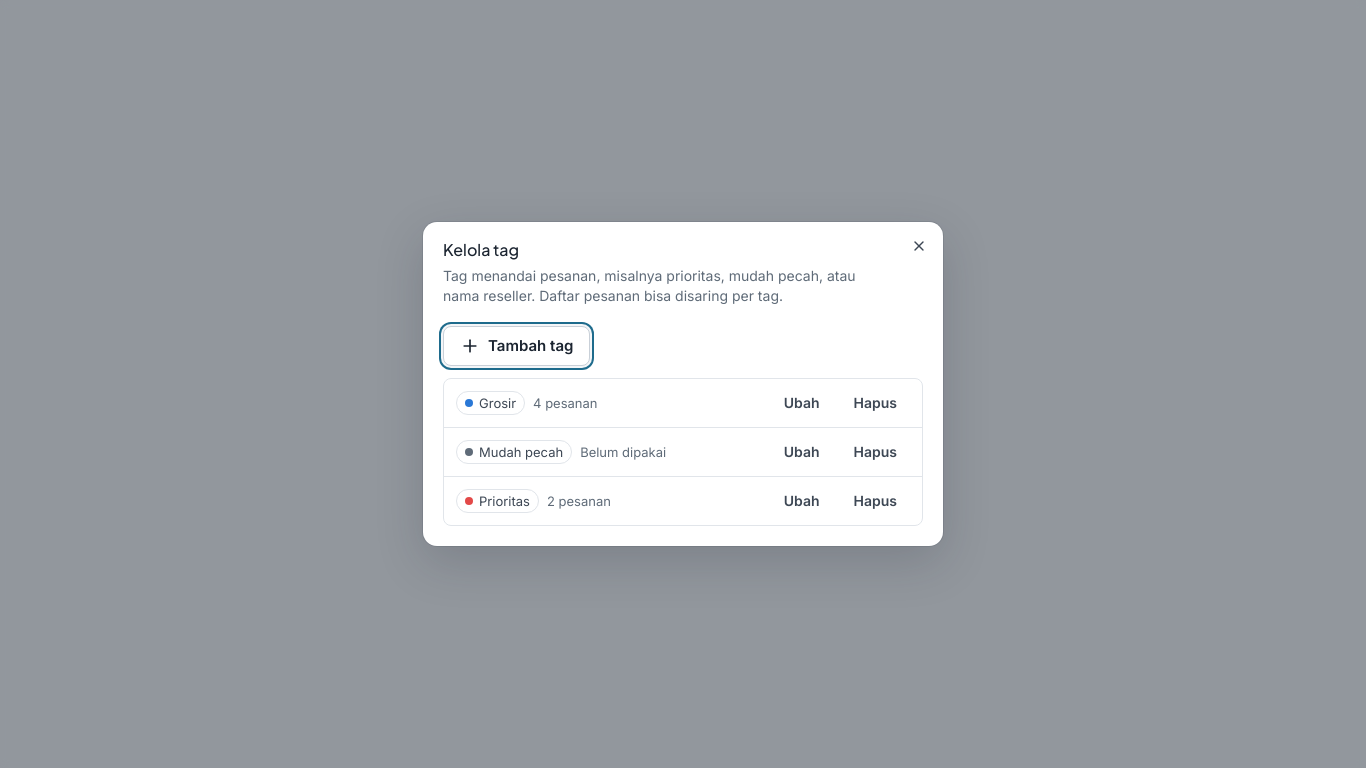
Test: Kelola tag › makes a new tag with a chosen color, refusing a name already used
This screenshot has width=1366, height=768.
Check: the text "Prioritas" is shown, box 479,492 -> 530,510
Click the button "Tambah tag": {"x": 517, "y": 346} 443,326 -> 590,366
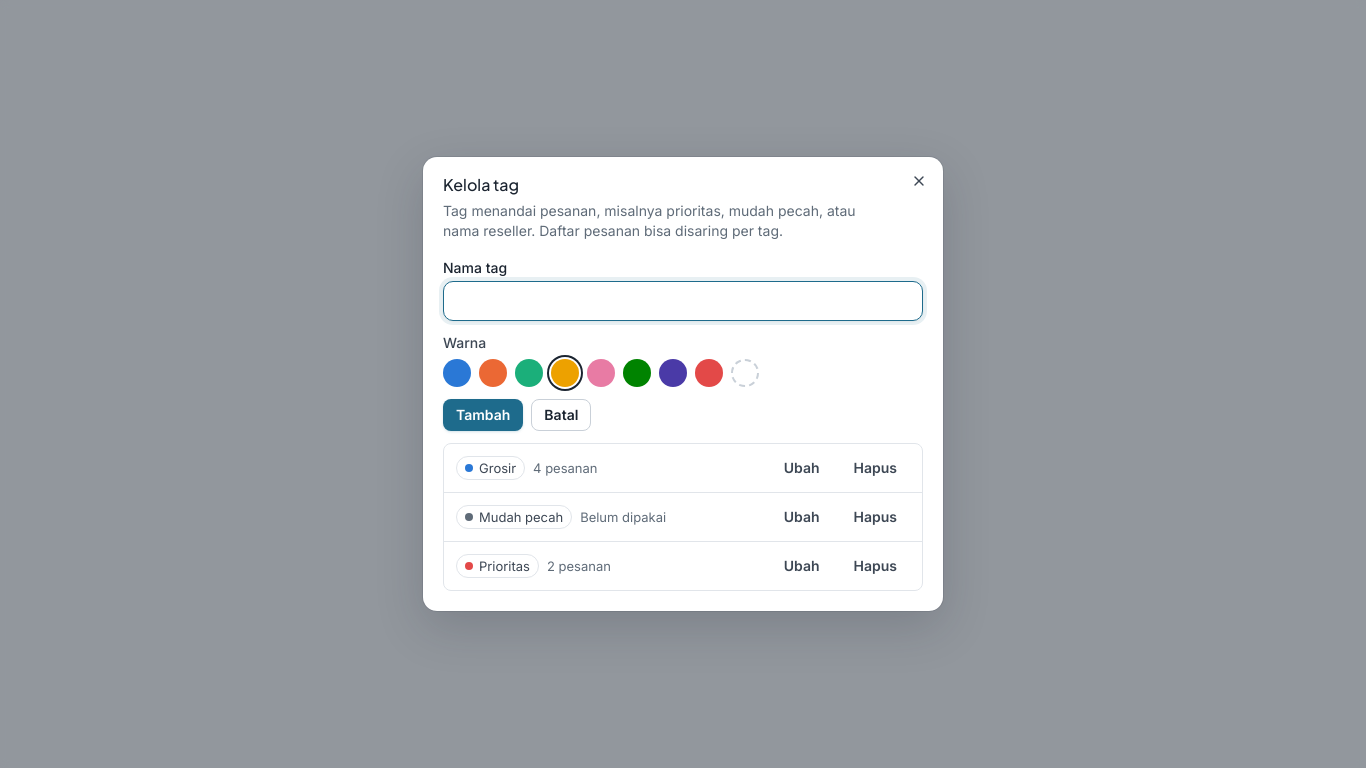
In the field labelled "Nama tag": {"x": 683, "y": 301} 443,281 -> 923,321, type "grosir"
Click the button "Tambah": {"x": 483, "y": 415} 443,399 -> 523,431
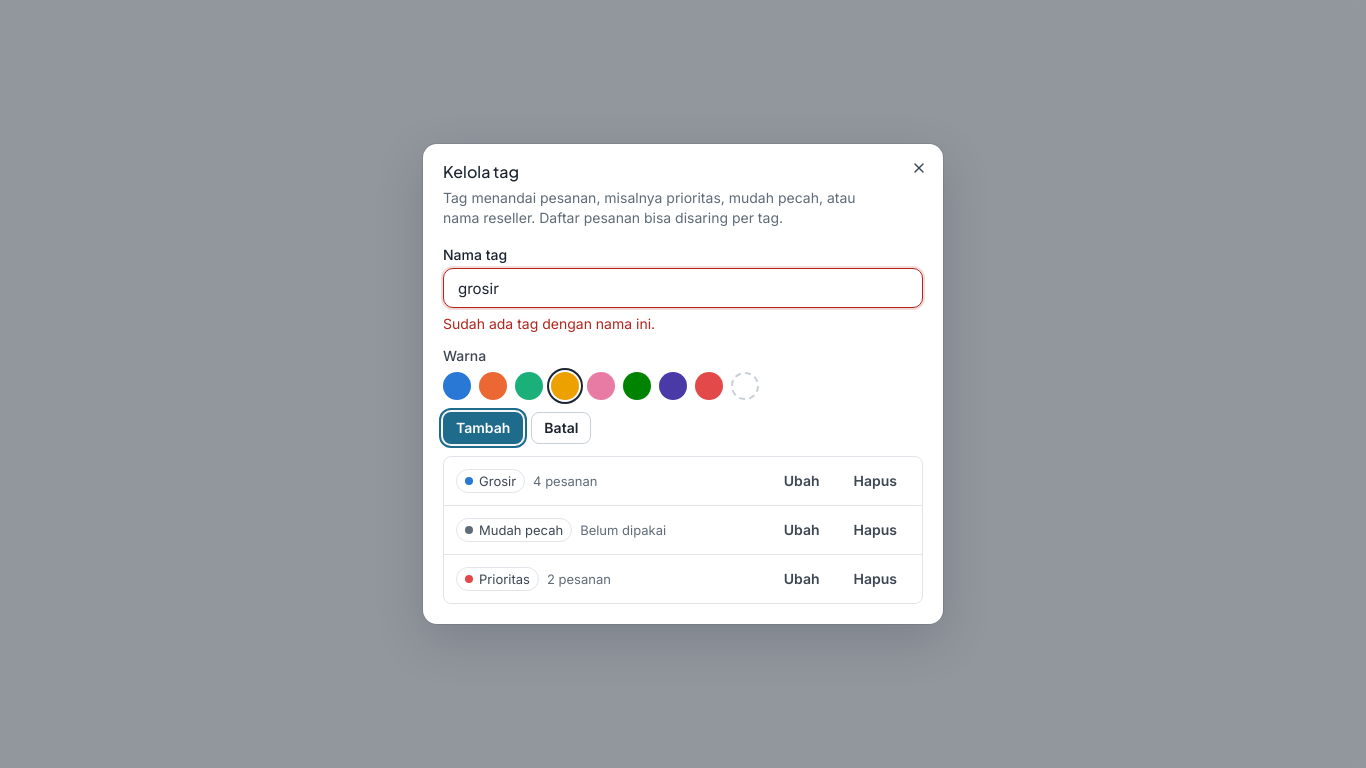
Check: the text "Sudah ada tag dengan nama ini." is shown, box 443,315 -> 655,332
Clear the field labelled "Nama tag": {"x": 683, "y": 288} 443,268 -> 923,308
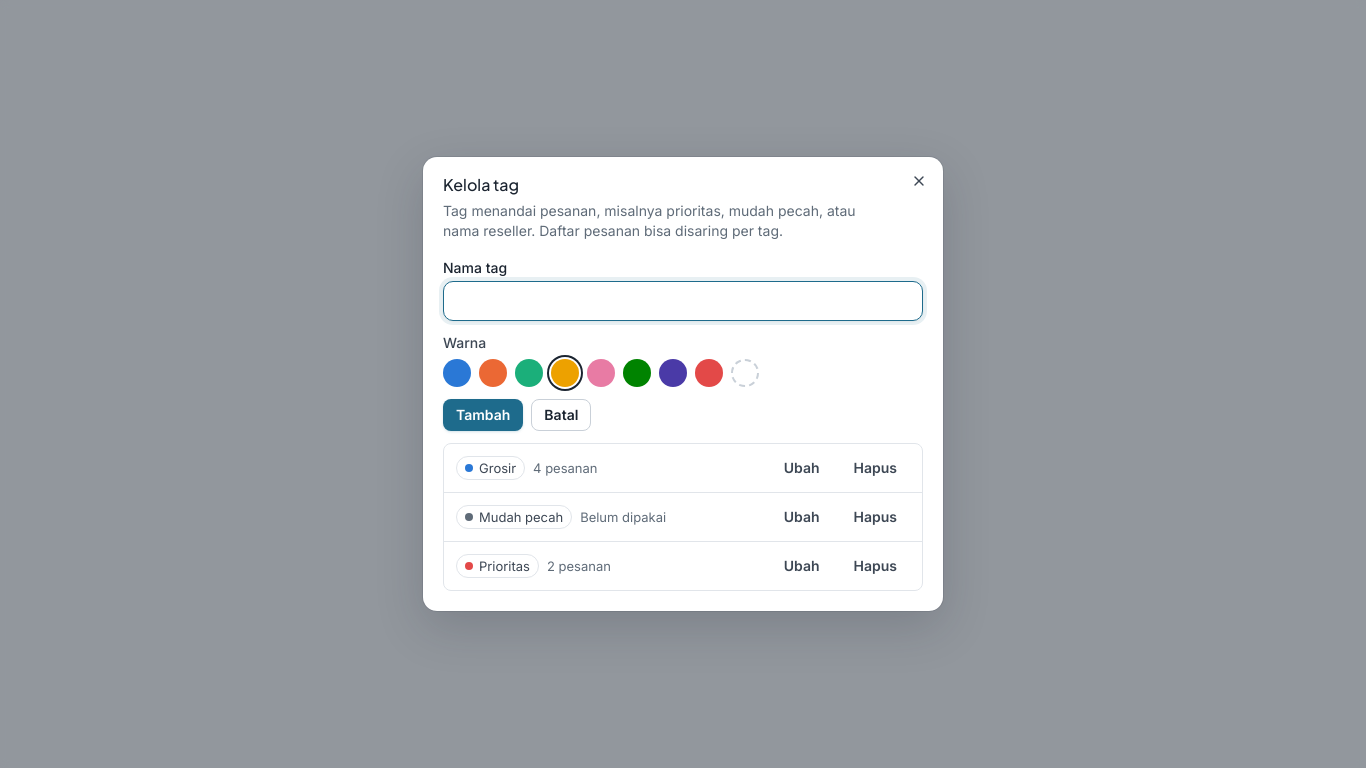
Check: the text "Sudah ada tag dengan nama ini." is gone
In the field labelled "Nama tag": {"x": 683, "y": 301} 443,281 -> 923,321, type "Grosir besar"
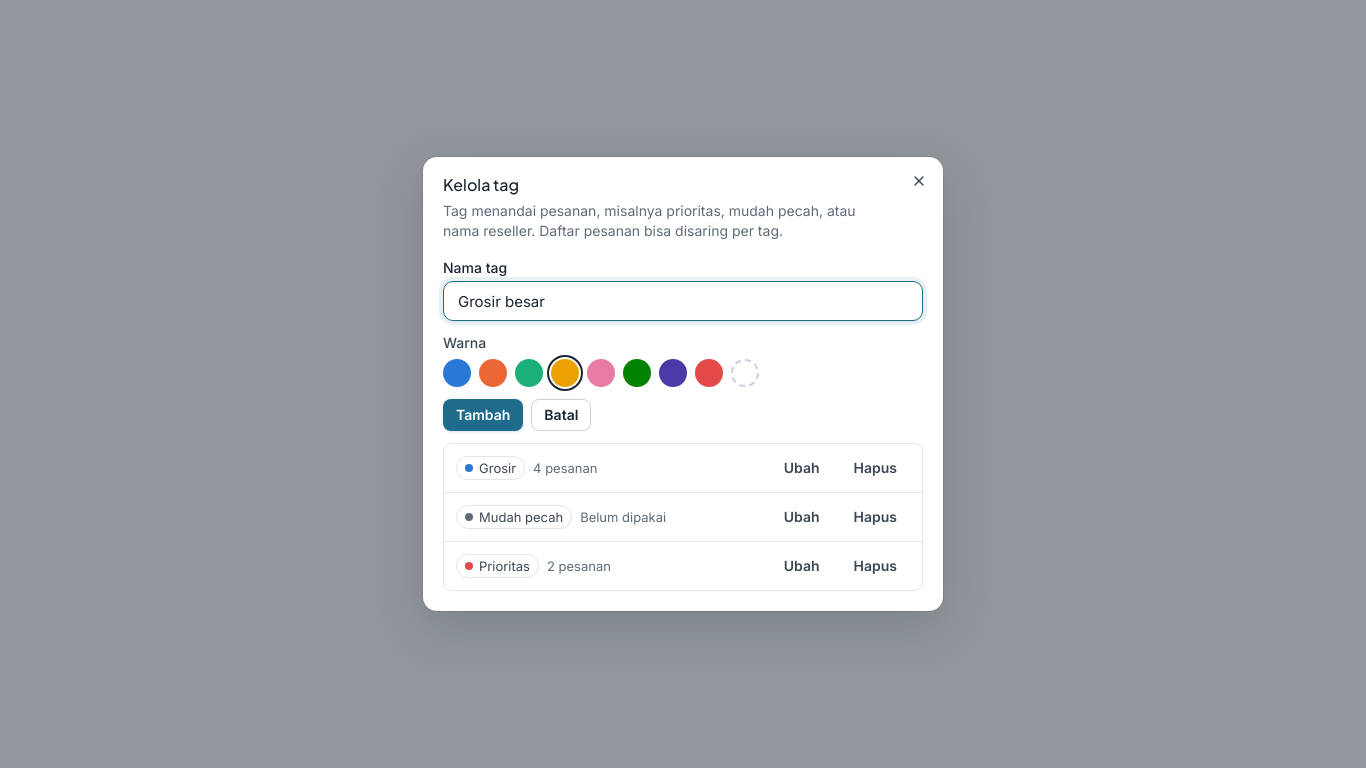
Click the radio button named "Ungu": {"x": 673, "y": 373} 659,359 -> 687,387
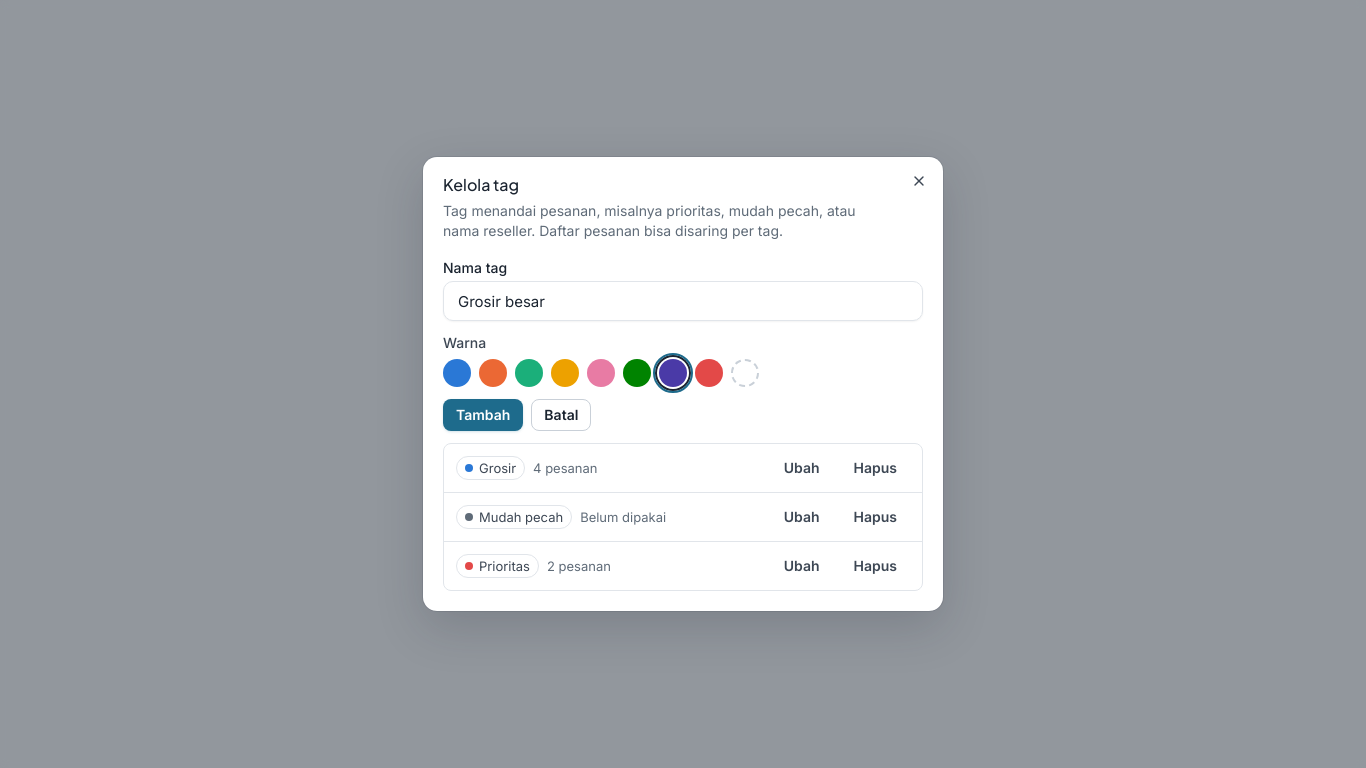
Click the button "Tambah": {"x": 483, "y": 415} 443,399 -> 523,431
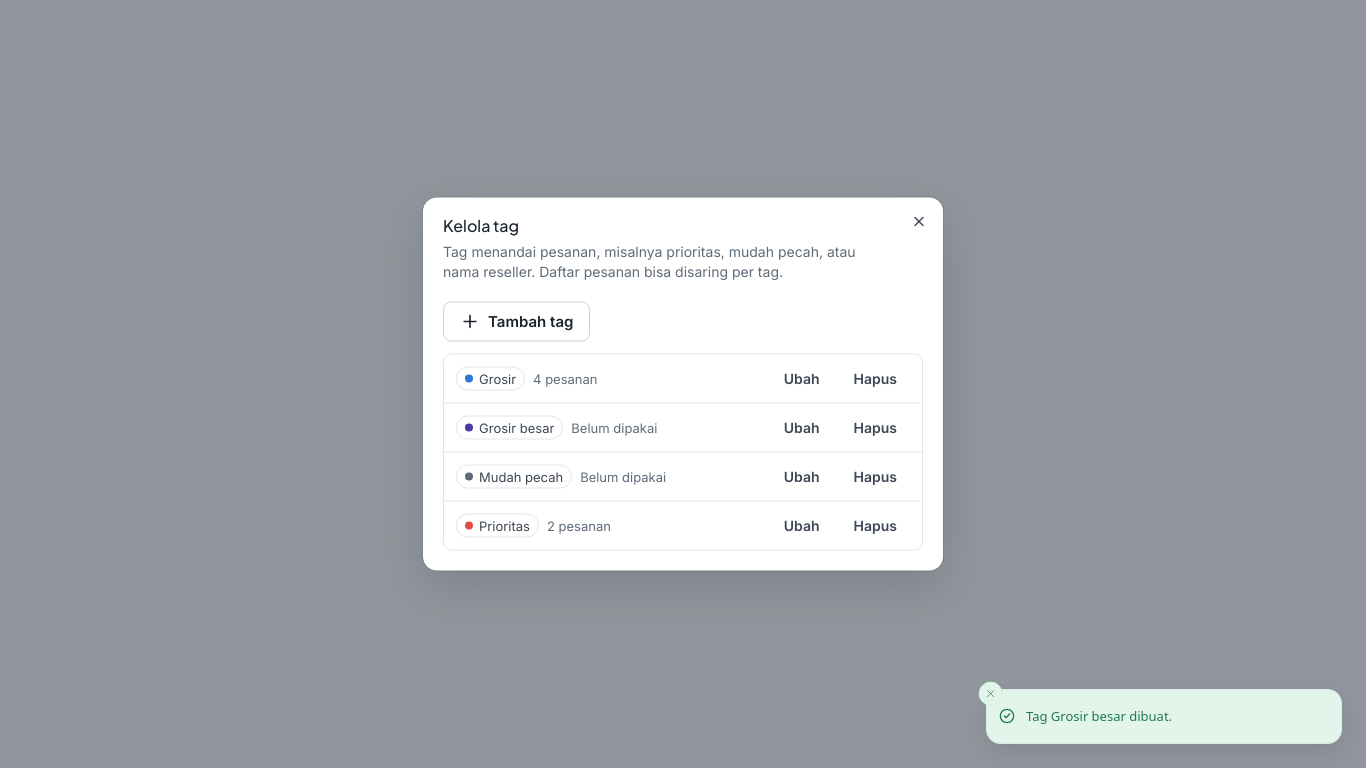
Check: the text "Tag Grosir besar dibuat." is shown, box 1026,706 -> 1172,727
